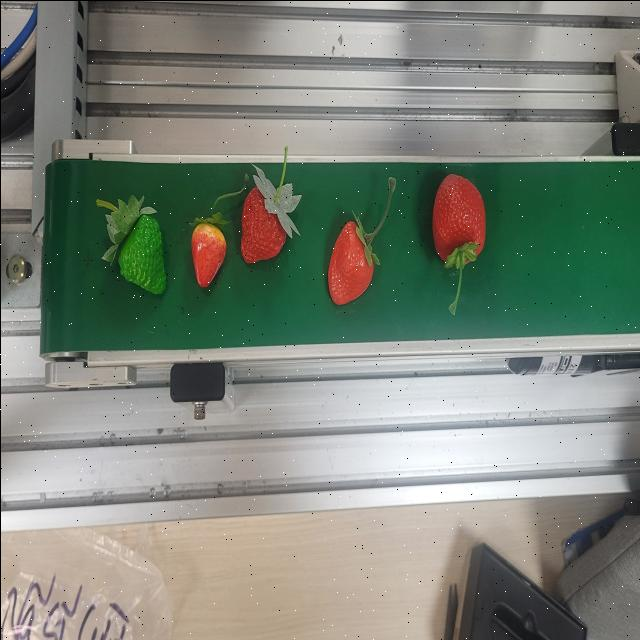Large Ripe Strawberry: (430, 170, 488, 316)
Small Ripe Strawberry: (324, 210, 376, 310), (237, 168, 289, 266), (187, 216, 227, 292)
Small Unripe Strawberry: (104, 197, 169, 303)
